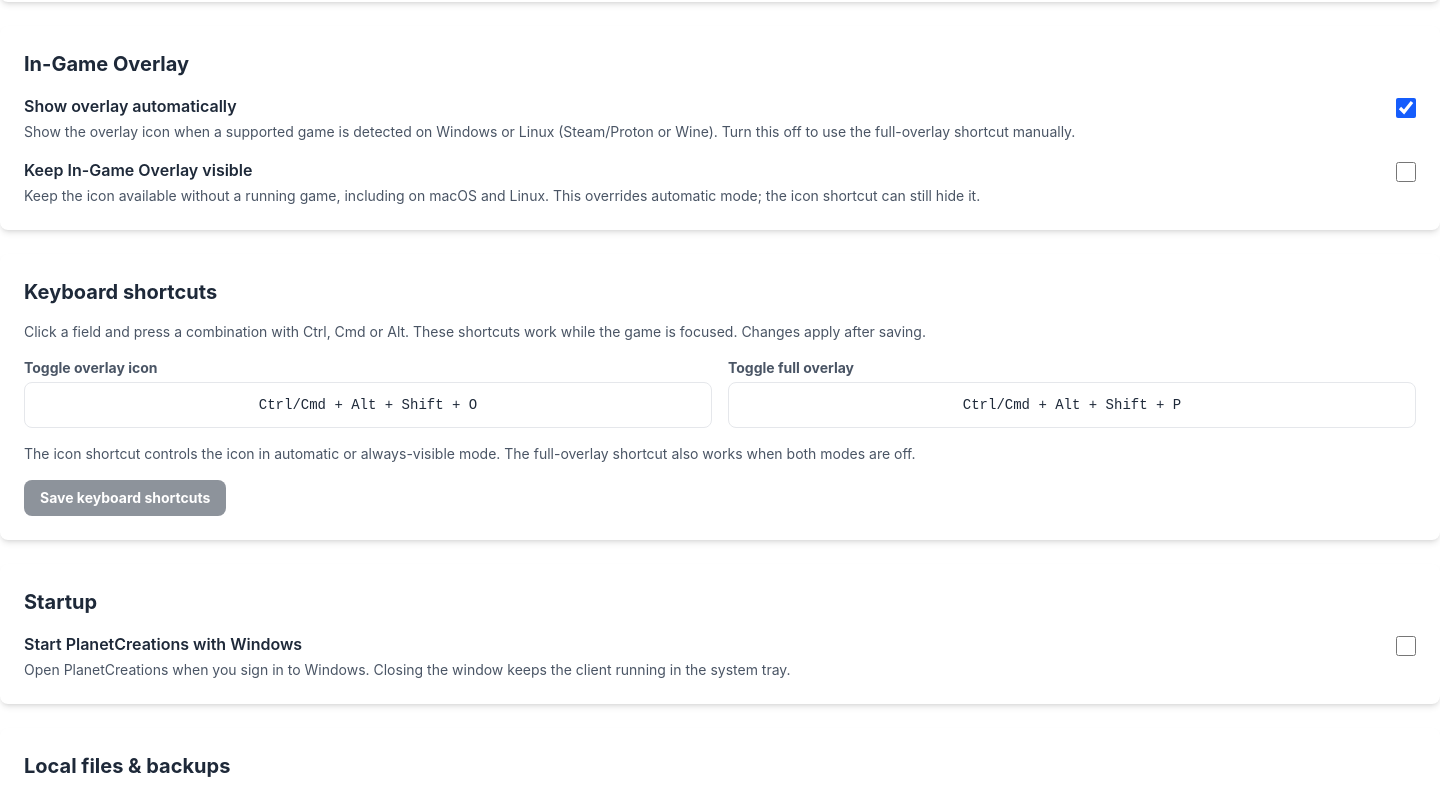
Test: saves shortcut drafts explicitly and preserves drafts when the icon is toggled
(page scrolled)
Press k in the field labelled "Toggle overlay icon", box [24,382,712,428]
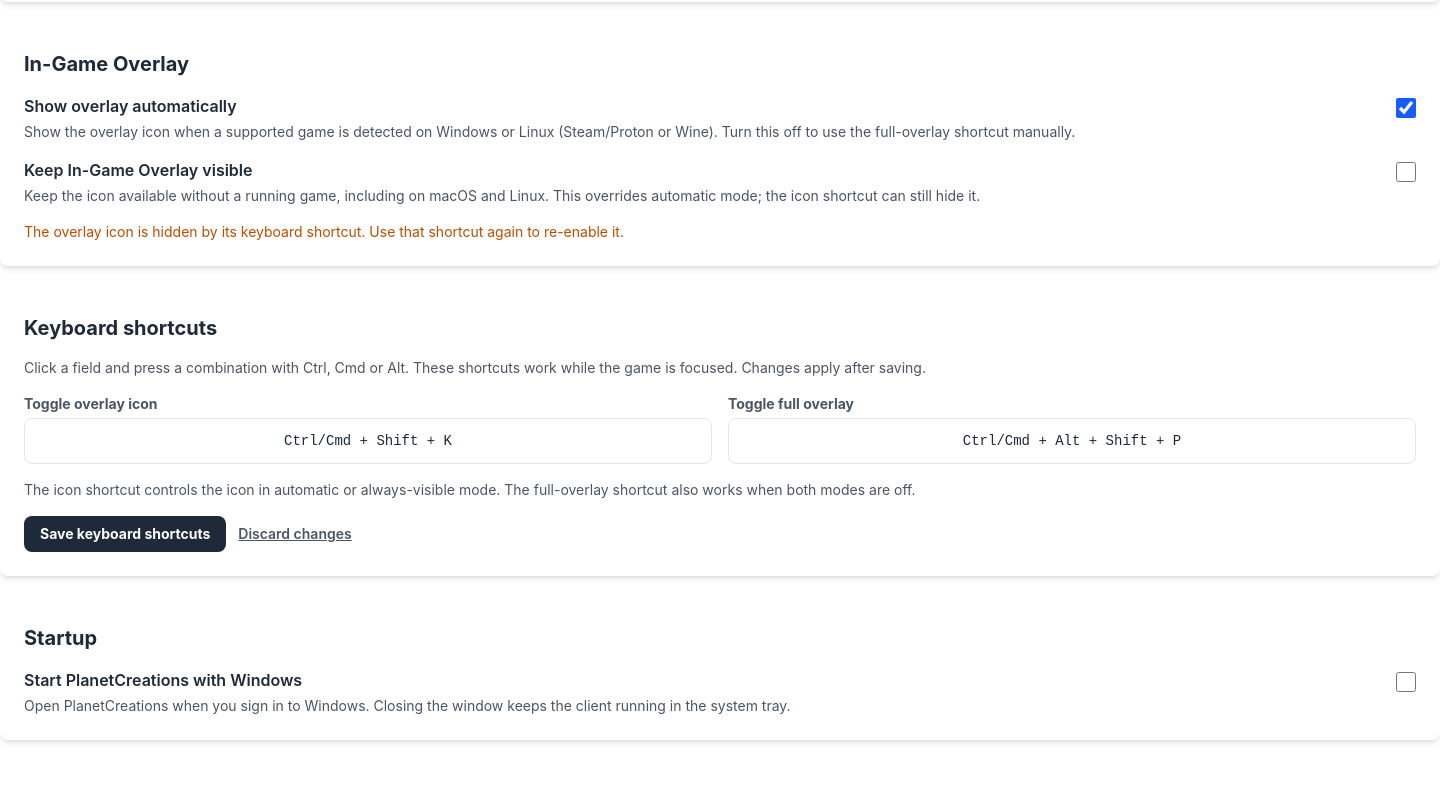
Expected: the field labelled "Toggle overlay icon" holds "Ctrl/Cmd + Shift + K", [24,418,712,464]
Click the button "Save keyboard shortcuts" at (125, 534), box [24,516,226,552]
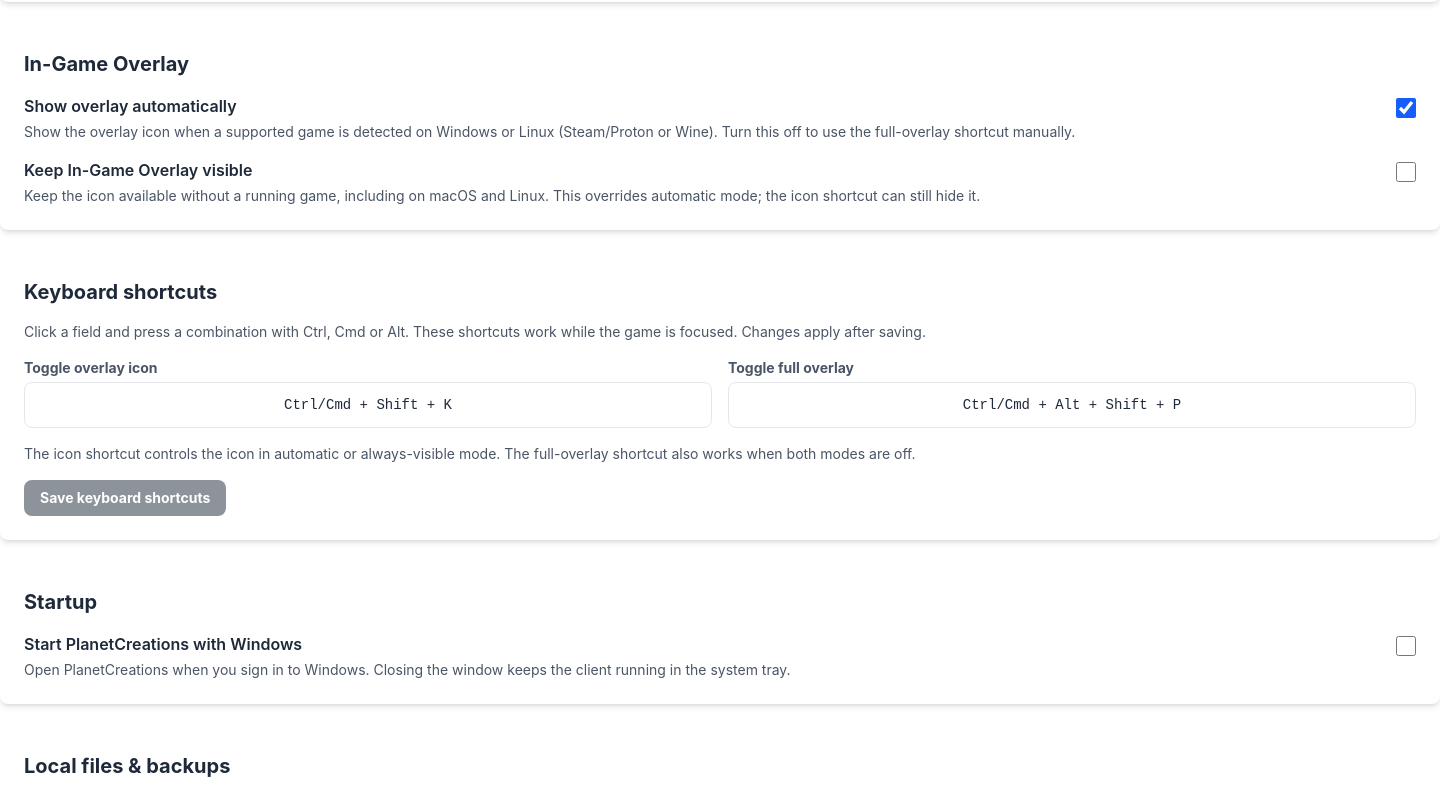
Expected: the button "Save keyboard shortcuts" is disabled, [24,480,226,516]
